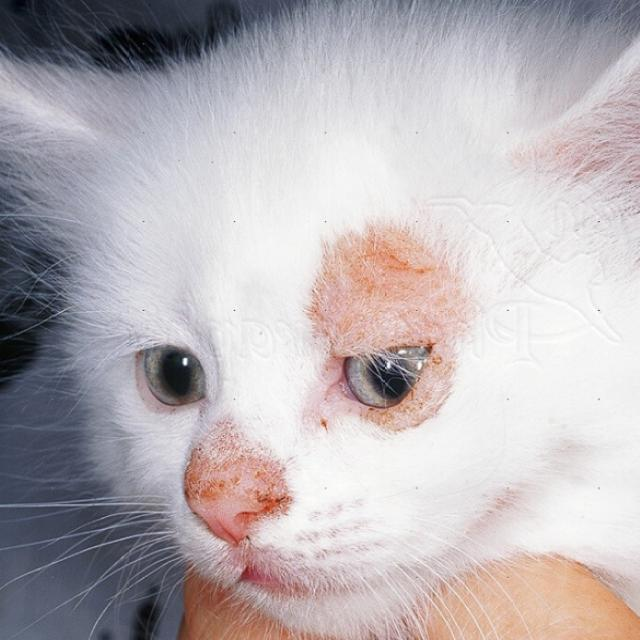hac lao: (284, 202, 490, 353)
